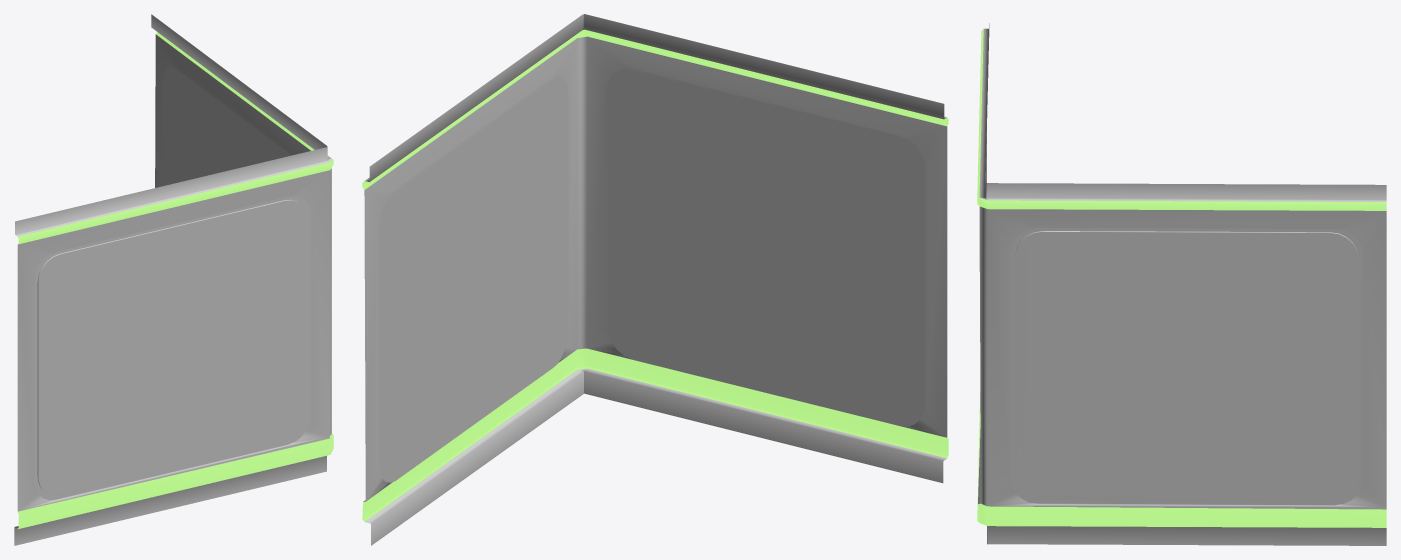
The model's file is sm_wall_white_corner.glb.
The picture shows the model from 3 angles, left to right: view 1: azimuth 30°, elevation 25°; view 2: azimuth 150°, elevation 25°; view 3: azimuth 270°, elevation 25°; orthographic projection. The views are drawn at different scales.
Parts seen in each view (by area): view 1: Wall_White_Corner; view 2: Wall_White_Corner; view 3: Wall_White_Corner.
Part boxes in pixels (left/top/right/bottom): Wall_White_Corner: left=14, top=14, right=333, bottom=545; Wall_White_Corner: left=362, top=14, right=948, bottom=545; Wall_White_Corner: left=977, top=23, right=1386, bottom=545.
Size of the model in its own units: 2.07 by 2 by 2.05.
